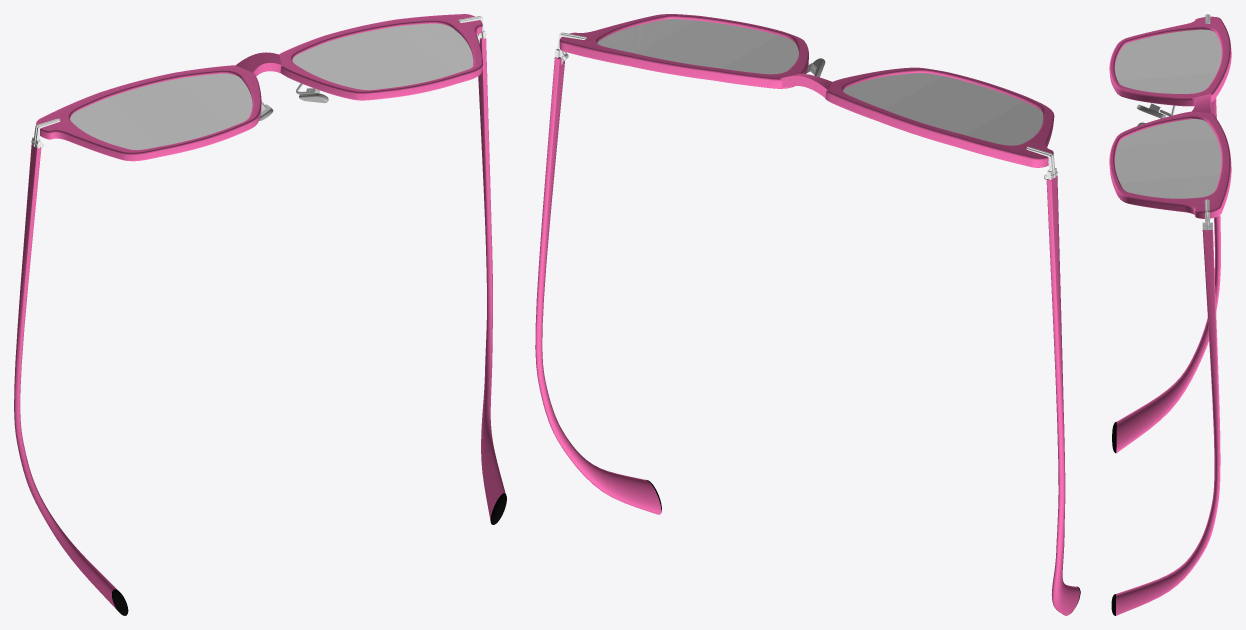
Rendered from clubmaster-pink.glb.
3 renders of one model, left to right at view 1: azimuth 30°, elevation 25°; view 2: azimuth 150°, elevation 25°; view 3: azimuth 270°, elevation 25°, orthographic. The views are drawn at different scales.
Visible parts, largest first — view 1: imagetostl_mesh0, imagetostl_mesh14, imagetostl_mesh5; view 2: imagetostl_mesh0, imagetostl_mesh14; view 3: imagetostl_mesh0, imagetostl_mesh14, imagetostl_mesh5, imagetostl_mesh1.
Boxes of the visible parts, <box> form: imagetostl_mesh0: <box>14,14,505,610</box>; imagetostl_mesh14: <box>70,23,473,149</box>; imagetostl_mesh5: <box>112,92,506,615</box>; imagetostl_mesh0: <box>535,14,1079,615</box>; imagetostl_mesh14: <box>597,19,1043,145</box>; imagetostl_mesh0: <box>1109,16,1231,615</box>; imagetostl_mesh14: <box>1115,29,1221,198</box>; imagetostl_mesh5: <box>1111,104,1165,615</box>; imagetostl_mesh1: <box>1149,14,1212,230</box>.
Size of the model in its own units: 2.24 by 2.15 by 0.5442.
Materials: 4 (4 with a texture image).
